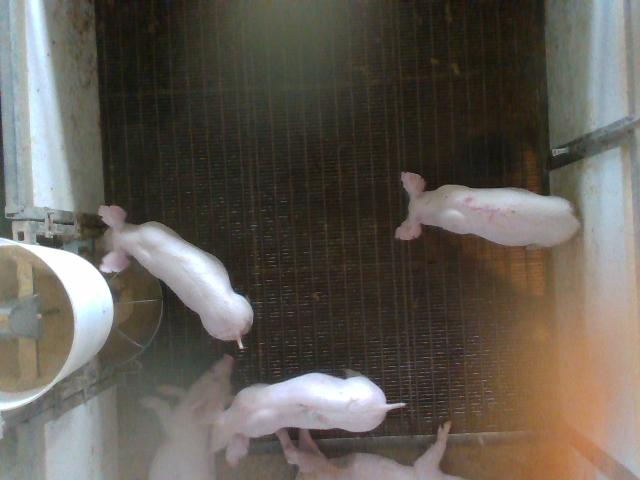pig-5: (396, 173, 580, 246)
